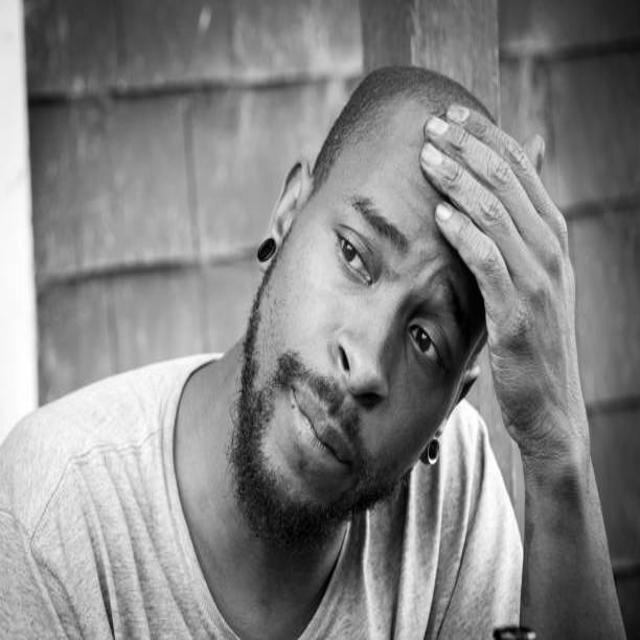Sadness: (237, 100, 500, 545)
